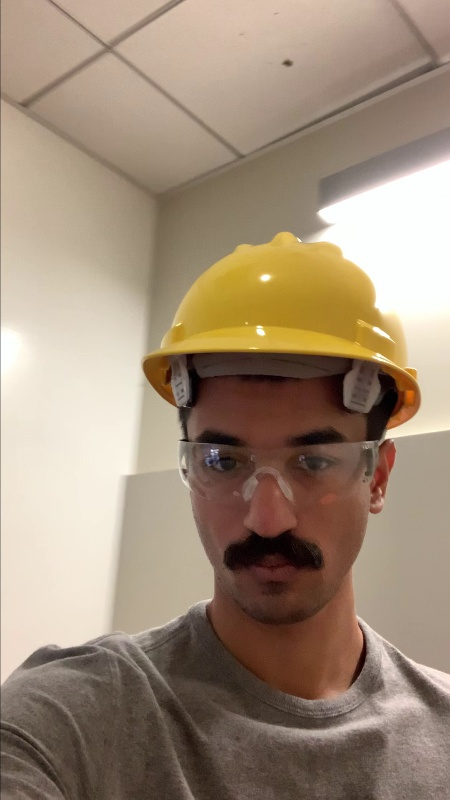glasses: (168, 431, 379, 494)
helmet: (169, 225, 392, 345)
